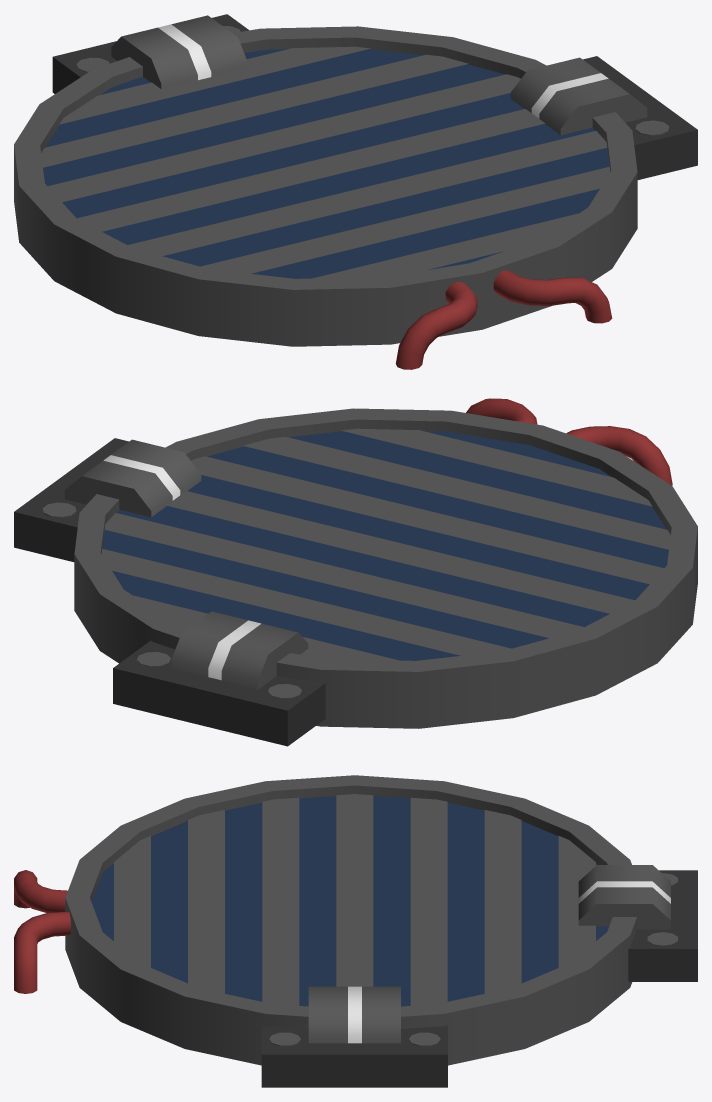
The model's file is holopad.fbx.
3 views of the same model, one above another, from view 1: azimuth 30°, elevation 25°; view 2: azimuth 150°, elevation 25°; view 3: azimuth 270°, elevation 25° (orthographic). The views are drawn at different scales.
Visible parts, largest first — view 1: Holopad; view 2: Holopad; view 3: Holopad.
Part boxes in pixels (box(x1,y1,x2,y2)): Holopad: box(14, 14, 697, 369); Holopad: box(14, 398, 697, 746); Holopad: box(14, 775, 697, 1087).
Bounding box in the file's own units: 0.8222 × 0.0942 × 0.889.
